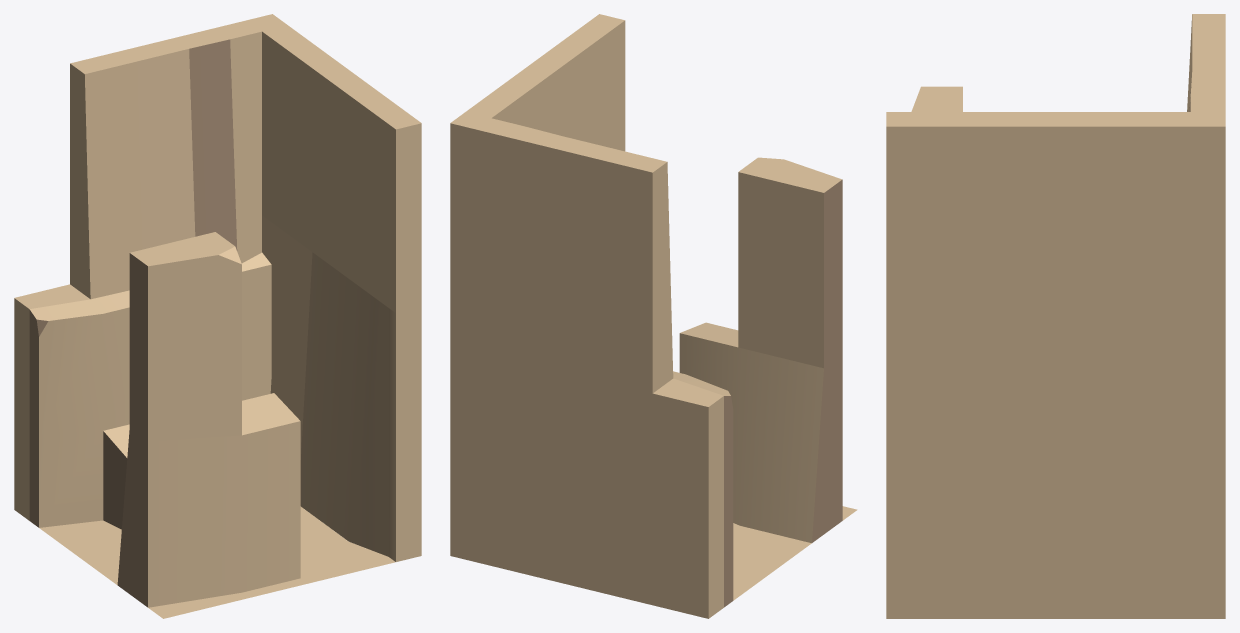
The model's file is CornerColumn.fbx.
The picture shows the model from 3 angles, left to right: view 1: azimuth 30°, elevation 25°; view 2: azimuth 150°, elevation 25°; view 3: azimuth 270°, elevation 25°; orthographic projection. The views are drawn at different scales.
Visible parts, largest first — view 1: CornerColumn; view 2: CornerColumn; view 3: CornerColumn.
Boxes of the visible parts, box(x1,y1,x2,y2) form: CornerColumn: box(14, 14, 421, 618); CornerColumn: box(450, 14, 857, 618); CornerColumn: box(886, 14, 1225, 618).
Bounding box in the file's own units: 5 × 8 × 5.
